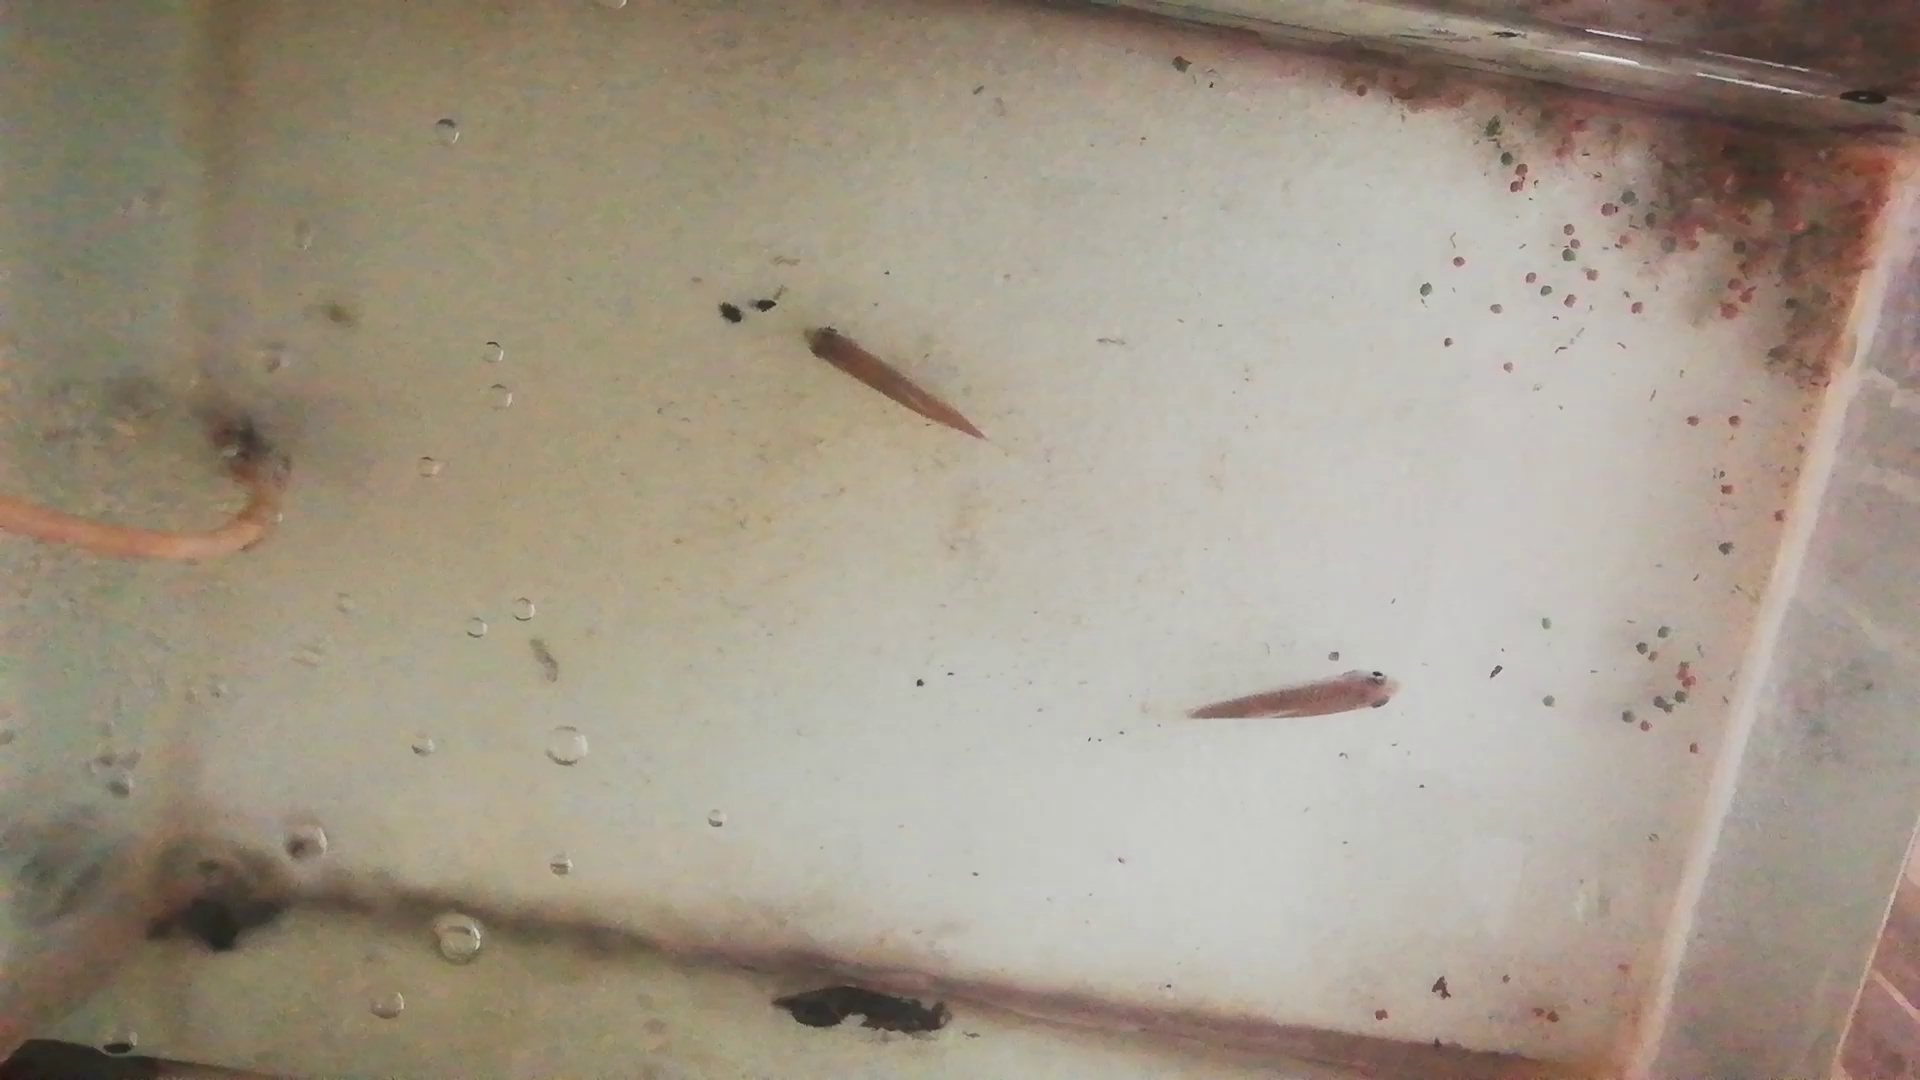fish: (796, 322, 975, 442), (1195, 666, 1398, 724)
